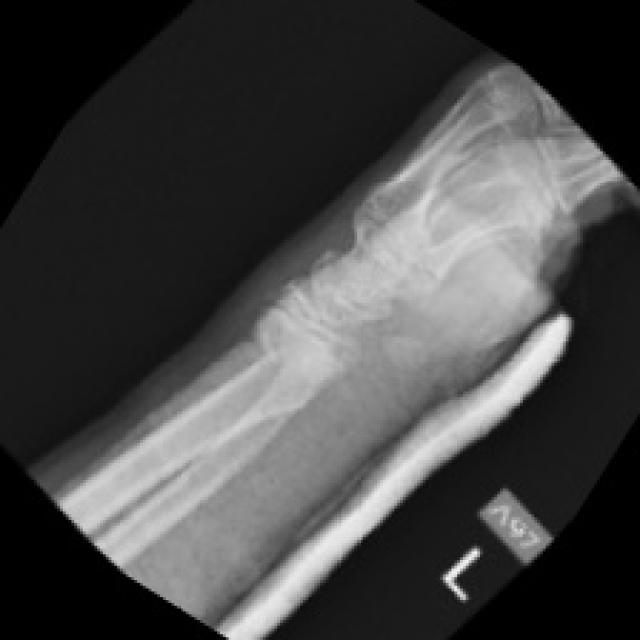fracture: (218, 309, 300, 386)
